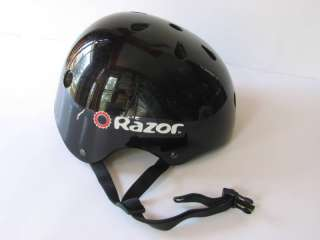with_helmet: (54, 8, 239, 168)
